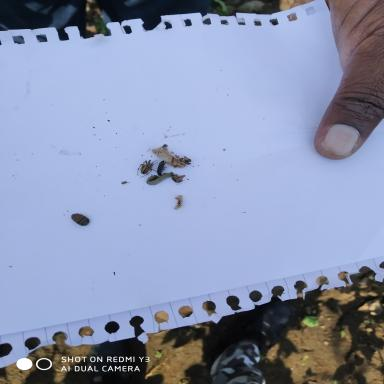abw: (152, 148, 192, 168)
